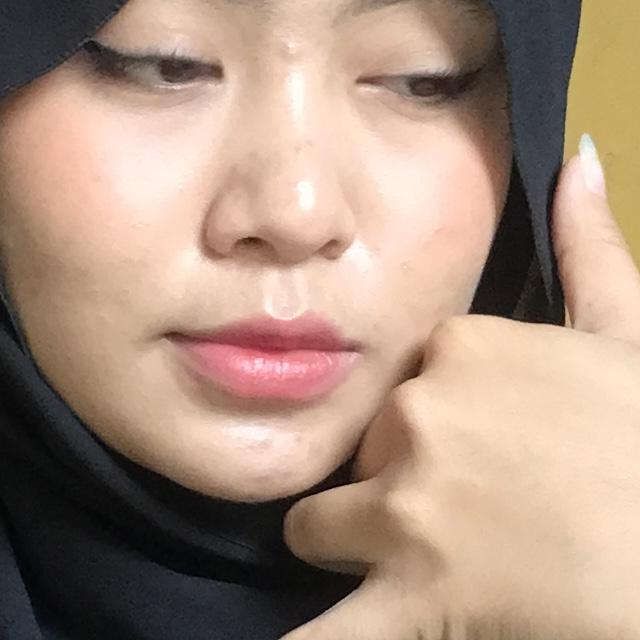telpon: (190, 66, 640, 640)
